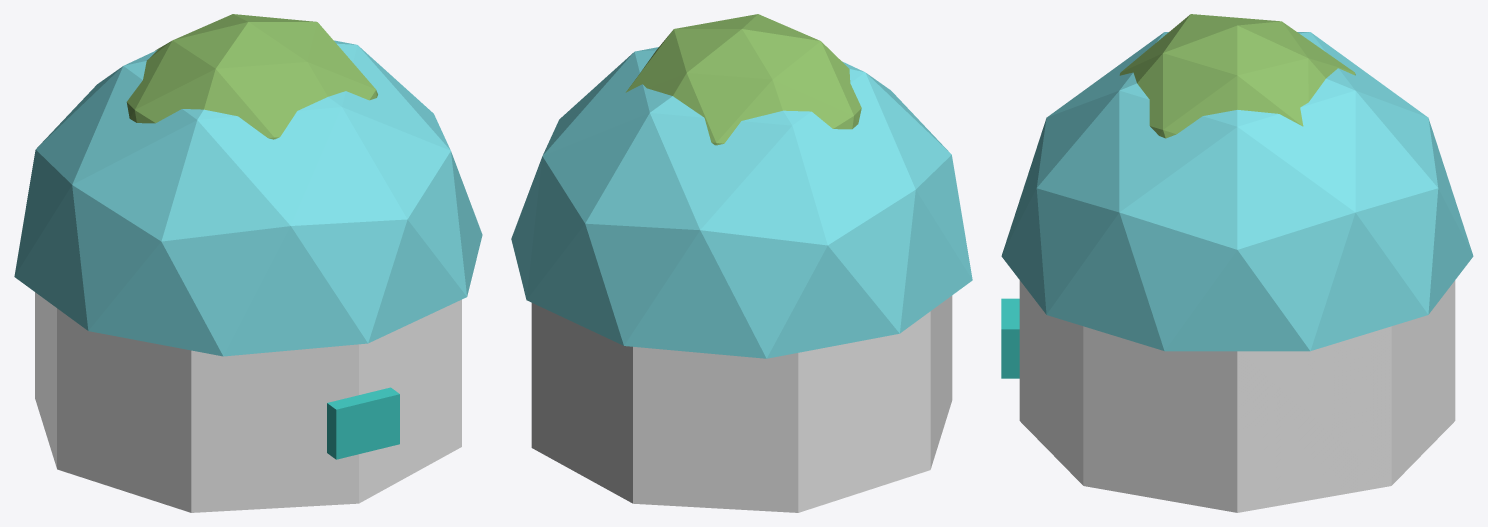
The model's file is plant-pod.glb.
3 renders of one model, left to right at view 1: azimuth 30°, elevation 25°; view 2: azimuth 150°, elevation 25°; view 3: azimuth 270°, elevation 25°, orthographic.
Parts seen in each view (by area): view 1: lab-plant-pod; view 2: lab-plant-pod; view 3: lab-plant-pod.
Part boxes in pixels (bbox=[...]): lab-plant-pod: bbox=[14, 14, 482, 512]; lab-plant-pod: bbox=[511, 14, 972, 512]; lab-plant-pod: bbox=[1001, 14, 1473, 512].
Size of the model in its own units: 0.4946 by 0.4806 by 0.52.
